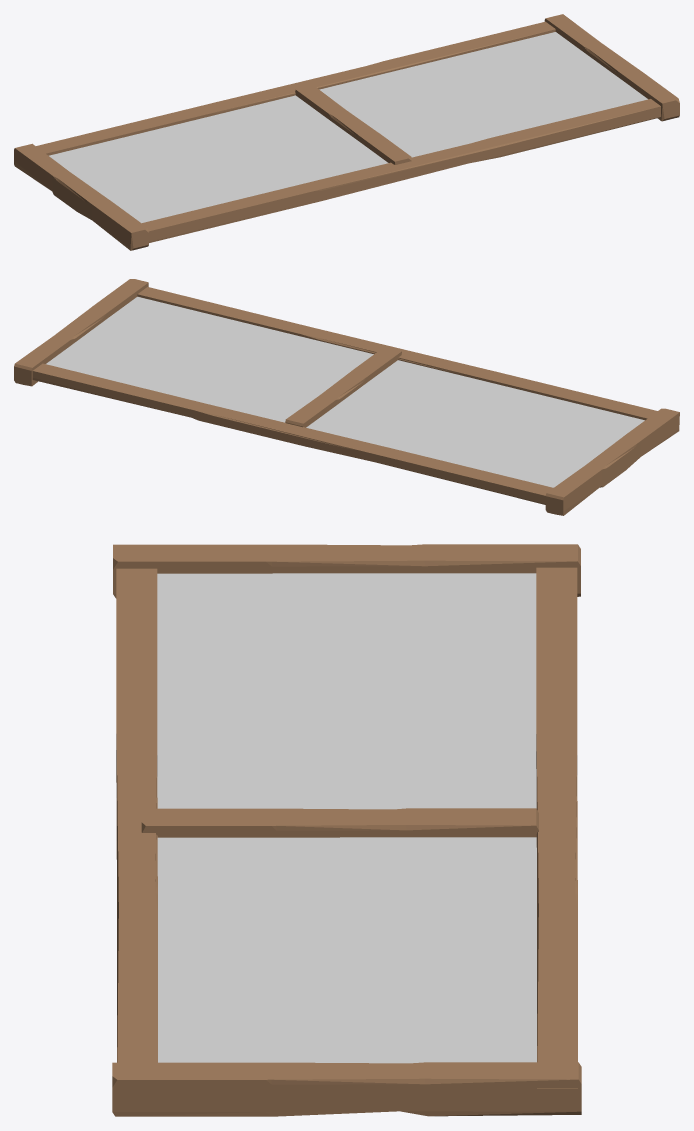
Rendered from PK_Veranda_Glass_Flat.fbx.
The picture shows the model from 3 angles, top to bottom: view 1: azimuth 30°, elevation 25°; view 2: azimuth 150°, elevation 25°; view 3: azimuth 270°, elevation 25°; orthographic projection. The views are drawn at different scales.
Visible parts, largest first — view 1: PK_Veranda_Glass_Flat; view 2: PK_Veranda_Glass_Flat; view 3: PK_Veranda_Glass_Flat.
Part boxes in pixels (x1,y1,x2,y2): PK_Veranda_Glass_Flat: [14, 14, 679, 250]; PK_Veranda_Glass_Flat: [14, 279, 679, 515]; PK_Veranda_Glass_Flat: [112, 544, 581, 1116].
Bounding box in the file's own units: 201 × 6.45 × 74.31.
